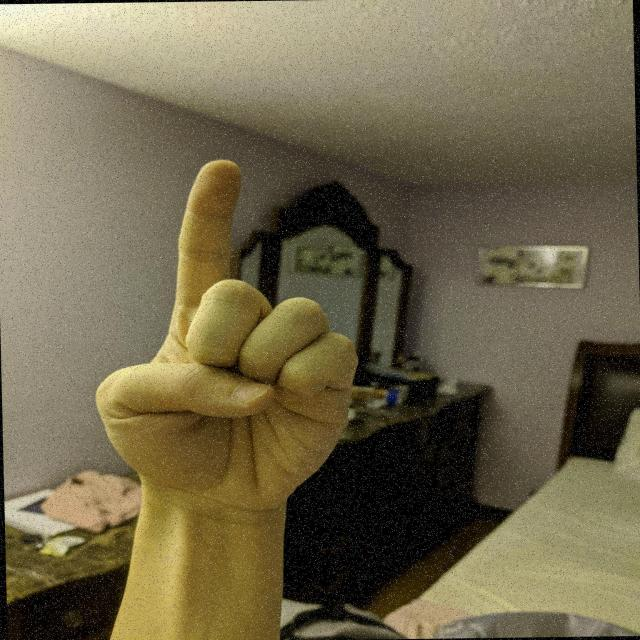D: (85, 154, 368, 512)
